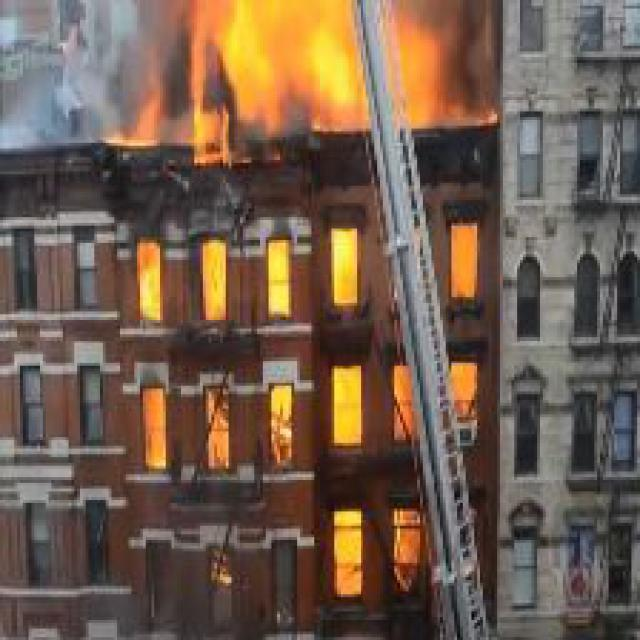fire: (120, 3, 494, 146)
